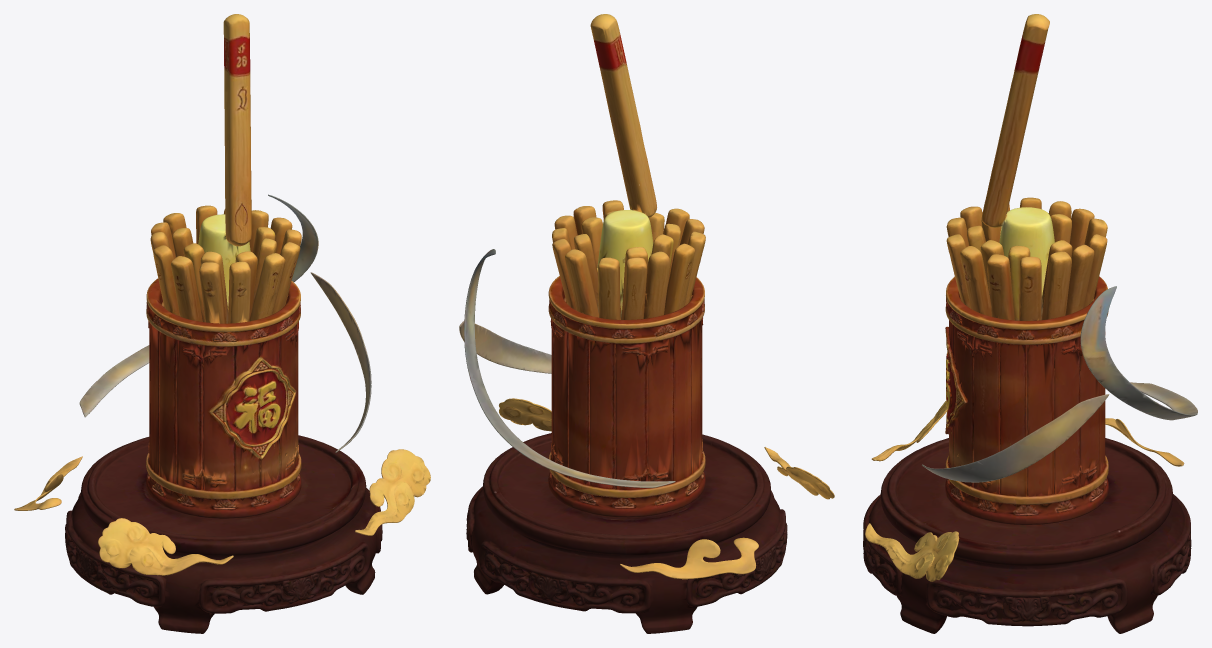
File: xam-set.glb
The picture shows the model from 3 angles, left to right: view 1: azimuth 30°, elevation 25°; view 2: azimuth 150°, elevation 25°; view 3: azimuth 270°, elevation 25°; orthographic projection. The views are drawn at different scales.
Parts seen in each view (by area): view 1: tripo_node_012bb46e-bf5e-4c72-93bc-13ea0561e1a8; view 2: tripo_node_012bb46e-bf5e-4c72-93bc-13ea0561e1a8; view 3: tripo_node_012bb46e-bf5e-4c72-93bc-13ea0561e1a8.
Boxes of the visible parts, x1=… form: tripo_node_012bb46e-bf5e-4c72-93bc-13ea0561e1a8: x1=14, y1=14, x2=430, y2=633; tripo_node_012bb46e-bf5e-4c72-93bc-13ea0561e1a8: x1=459, y1=14, x2=834, y2=633; tripo_node_012bb46e-bf5e-4c72-93bc-13ea0561e1a8: x1=863, y1=14, x2=1197, y2=633.
Size of the model in its own units: 0.6239 by 0.9785 by 0.5179.
1 material, 1 textured.
